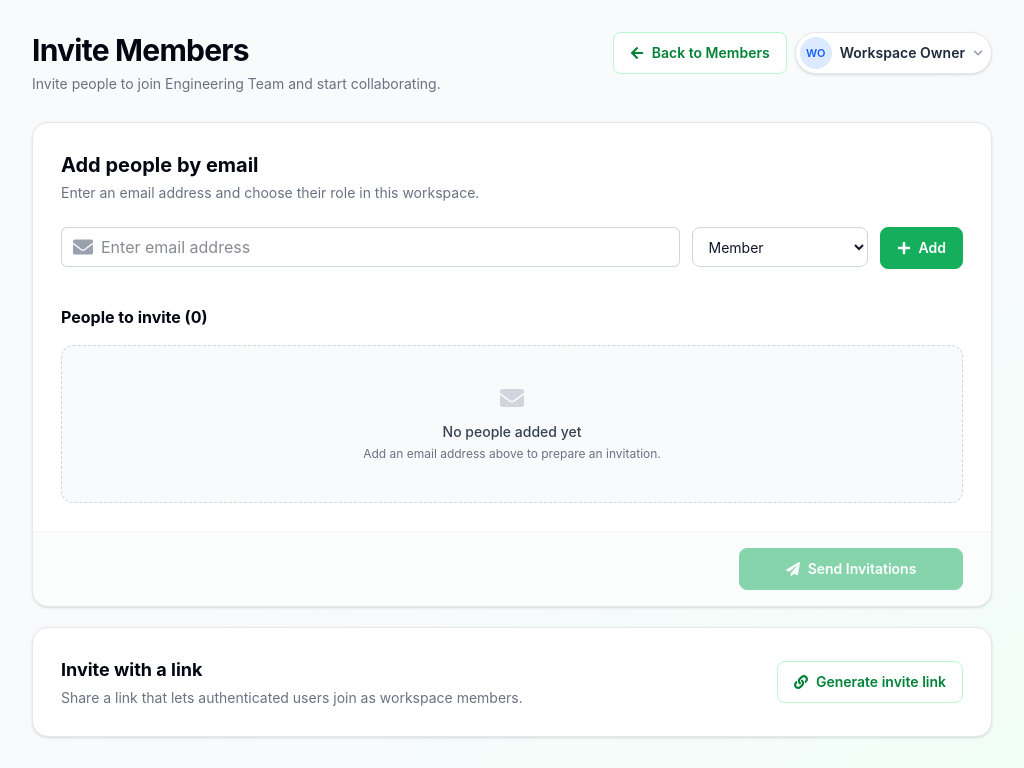
Test: Invite members page › removes a prepared invitation and disables submission again
The image size is (1024, 768).
Expected: the heading "Invite Members" is shown, [32,32,249,68]
In the field labelled "email address": (370, 247) [61,227,680,267], type "member@example.com"
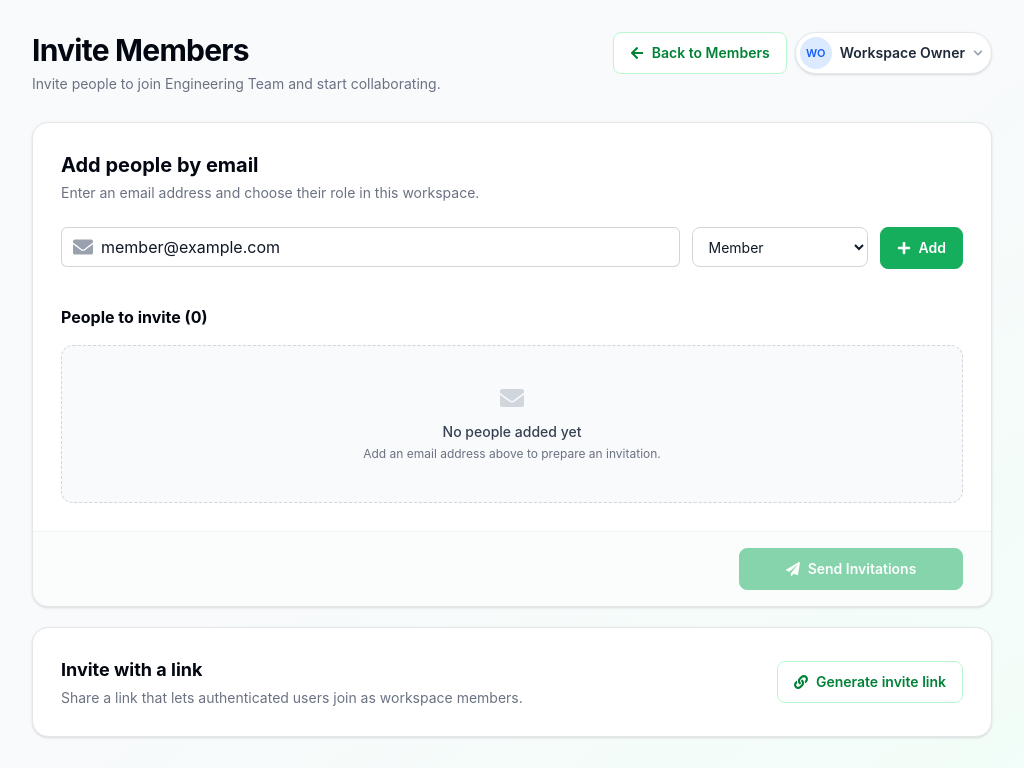
Select "Member" in the dropdown named "Workspace role": (780, 247) [692,227,868,267]
Click the button "Add": (921, 248) [880,227,963,269]
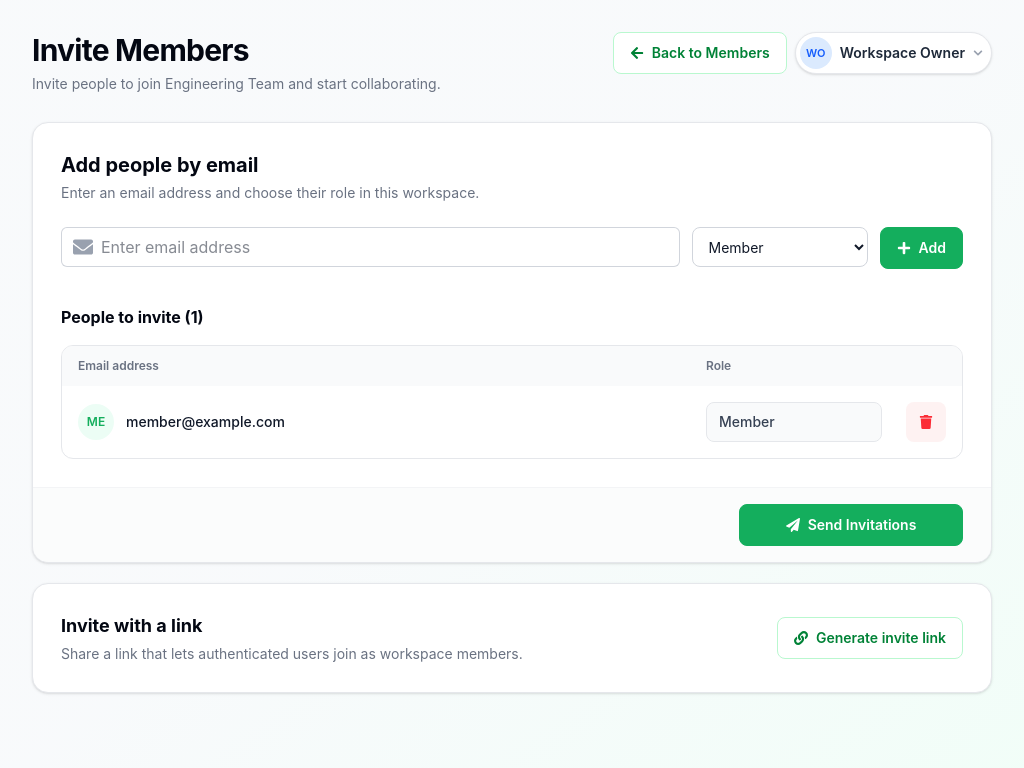
Expected: the text "member@example.com" is shown, [126,412,285,432]
Click the button named "Remove member@example.com": (926, 422) [906,402,946,442]
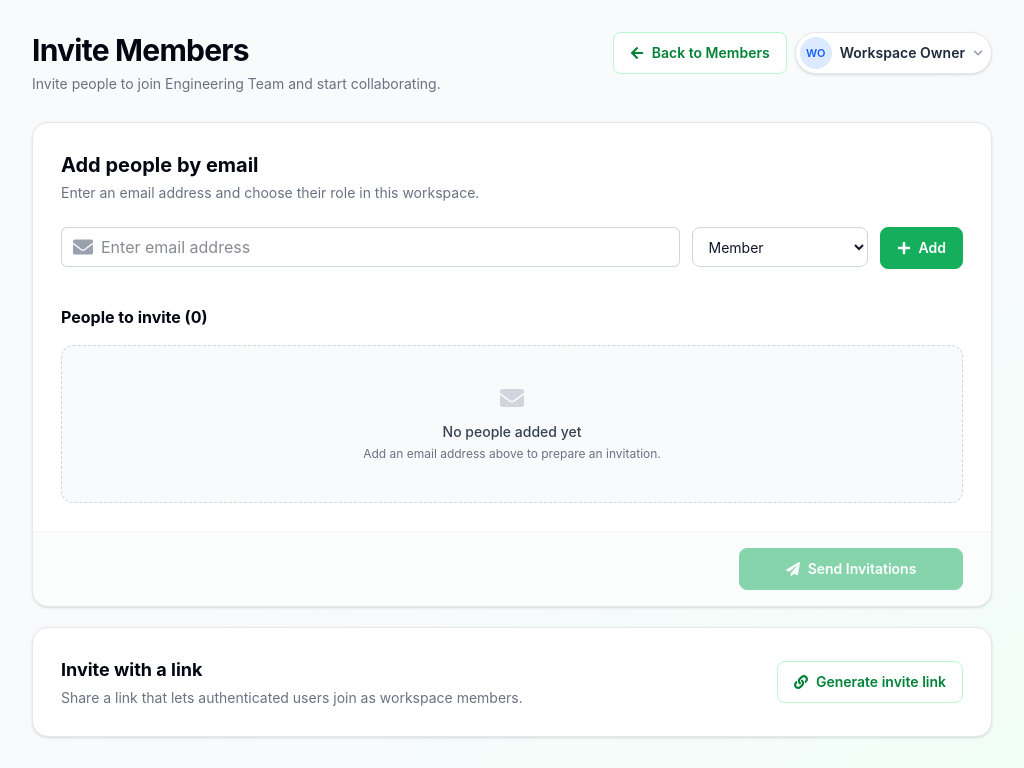
Expected: the text "member@example.com" is gone
Expected: the button "Send Invitations" is disabled, [739,548,963,590]
